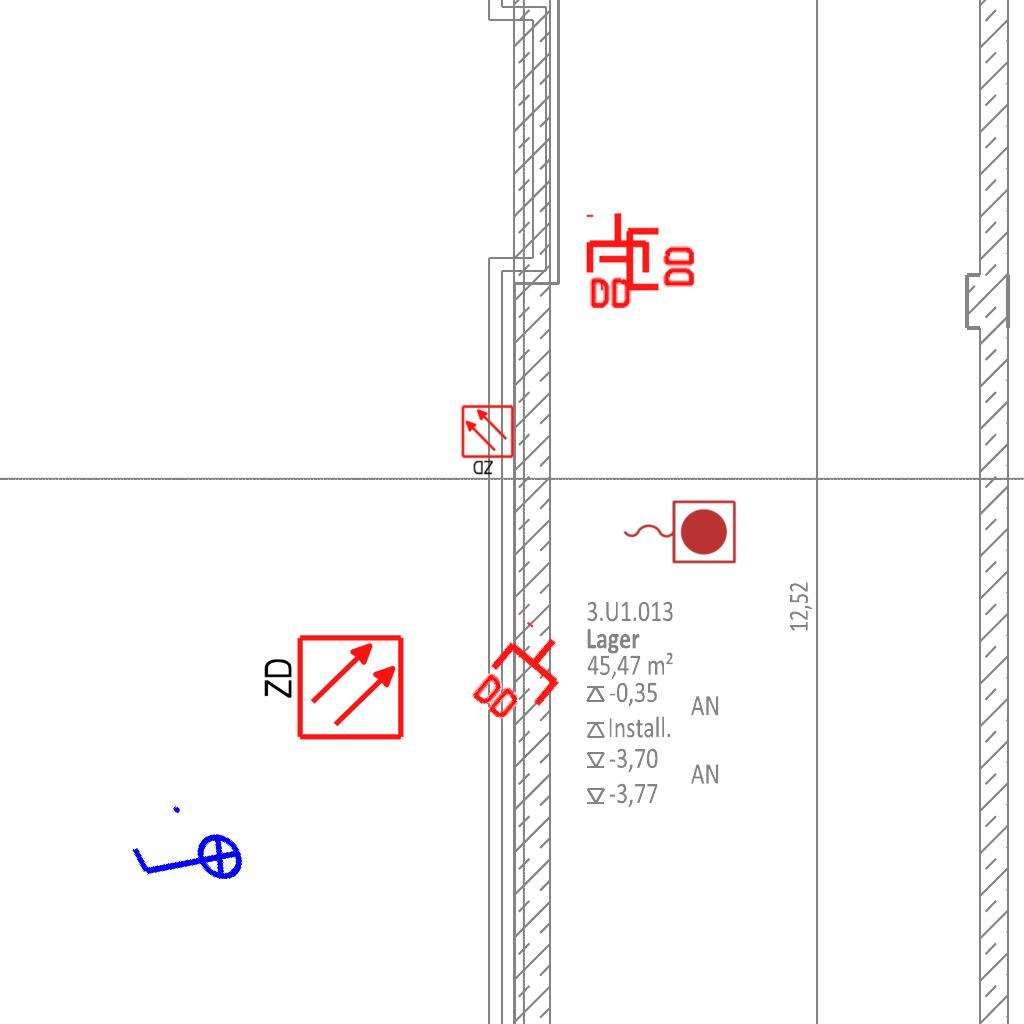Ausschalter_beleuchtet: (115, 788, 263, 936)
Datenanschluss_zweifach: (463, 616, 584, 741), (585, 210, 654, 313), (596, 223, 699, 292)
ZD_Melder_in_Zwischendecke_mit_Revisionsoeffnung_mind_40_x_40_cm: (257, 632, 406, 746), (460, 404, 517, 478)
Zugtaster: (618, 495, 740, 567)
